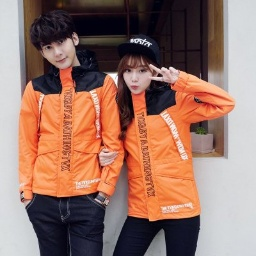face: (25, 9, 85, 76), (113, 45, 162, 108)
